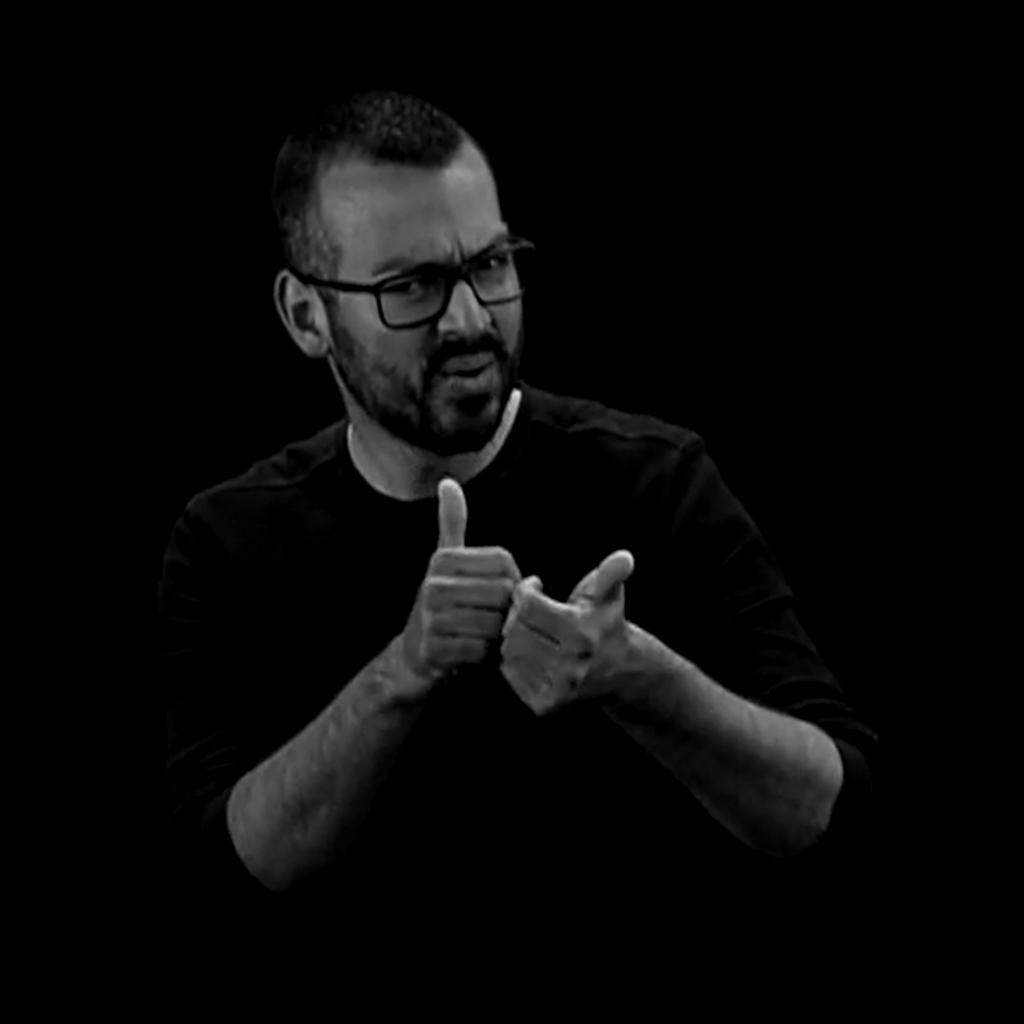how: (397, 472, 639, 722)
